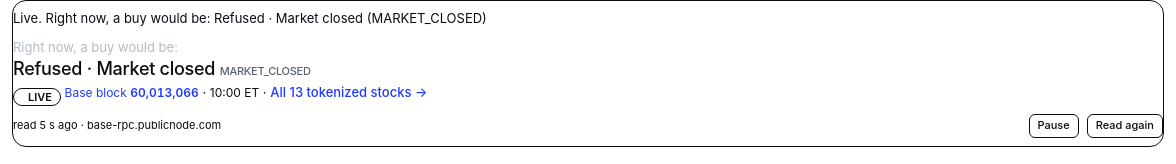
Test: the live strip in its Readout (spec 2026-11-23 sections 3.5 and 6.1; spec 2026-11-27 section 1) › writes the read age and the RPC host on the bezel, says paused while paused, and Read again reads at once
The image size is (1176, 164).
Click the button "Pause" at (1054, 126), box [1028,114,1079,138]
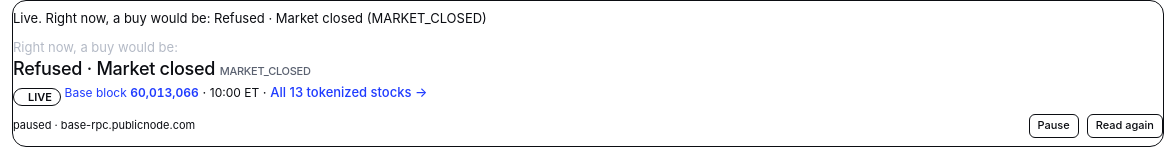
Click the button "Pause" at (1054, 126), box [1028,114,1079,138]
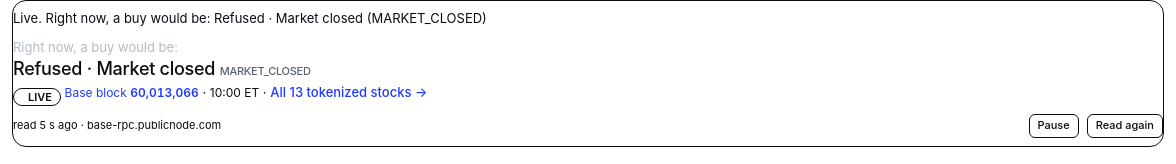
Click the button "Read again" at (1125, 126), box [1087,114,1163,138]
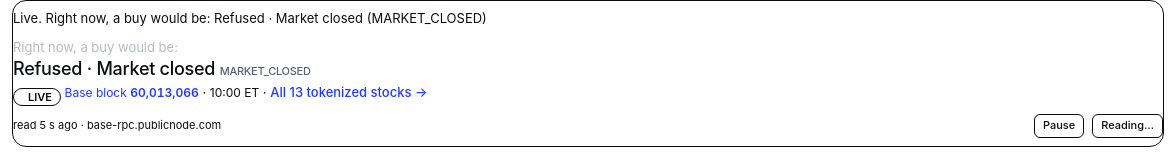
Check: the button "Reading…" is shown
Click the button "Reading…" at (1128, 126), box [1092,114,1163,138]
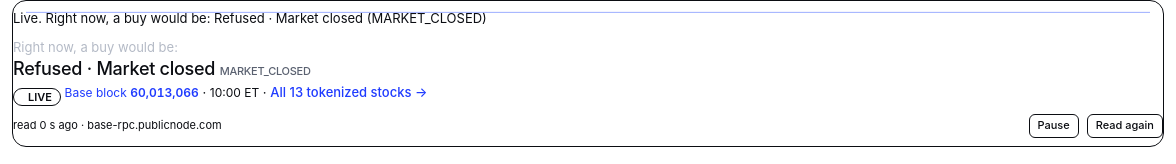
Check: the button "Read again" is shown, box [1087,114,1163,138]
